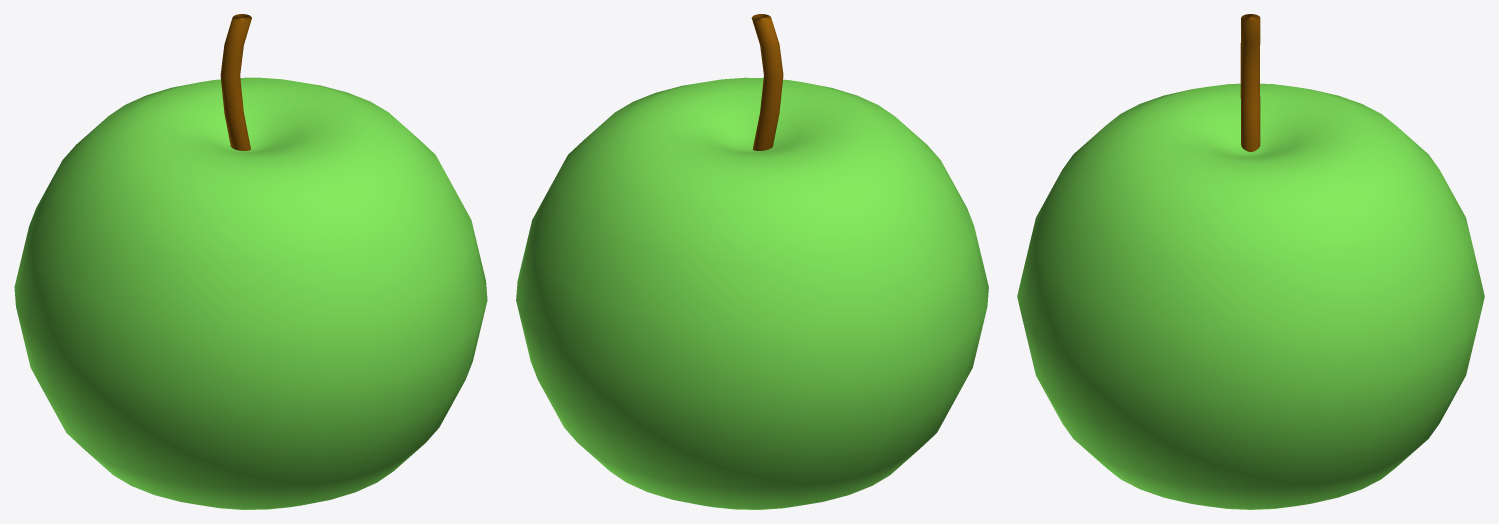
The model's file is apple.glb.
3 views of the same model, side by side, from view 1: azimuth 30°, elevation 25°; view 2: azimuth 150°, elevation 25°; view 3: azimuth 270°, elevation 25° (orthographic).
Visible parts, largest first — view 1: Pomme, Tige; view 2: Pomme, Tige; view 3: Pomme, Tige.
Part boxes in pixels (x1,y1,x2,y2): Pomme: (14, 77, 487, 509); Tige: (220, 14, 251, 150); Pomme: (516, 77, 988, 509); Tige: (751, 14, 783, 150); Pomme: (1017, 83, 1484, 509); Tige: (1240, 14, 1260, 152).
Bounding box in the file's own units: 1.95 × 2.03 × 1.95.
